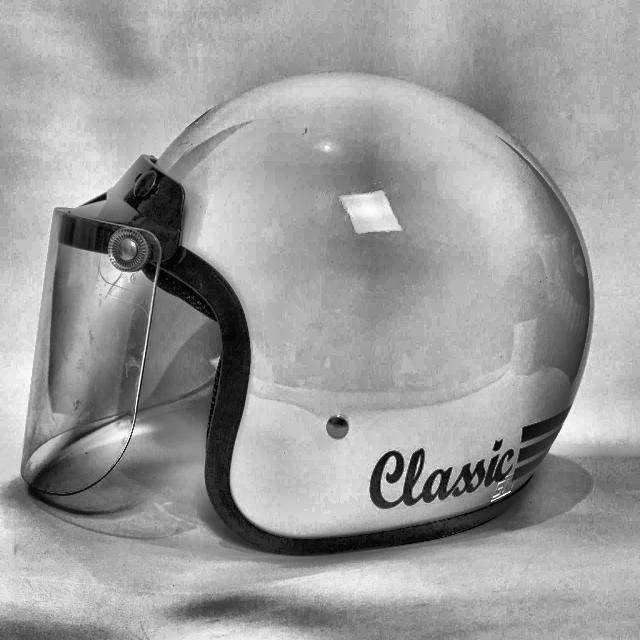Helmet: (22, 51, 604, 573)
